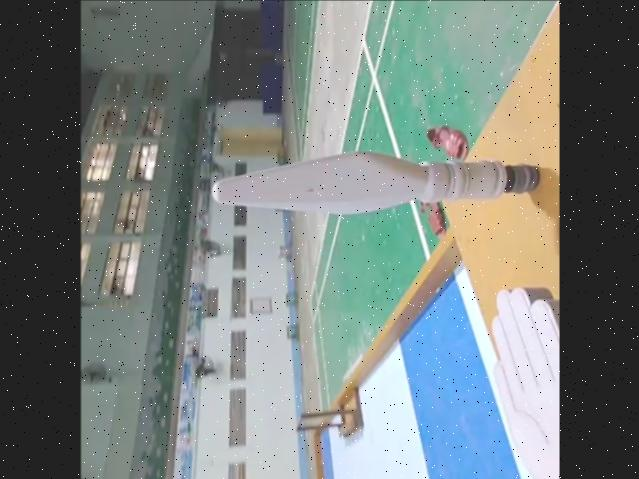Hand: (486, 279, 559, 479)
Sph: (210, 145, 542, 219)
